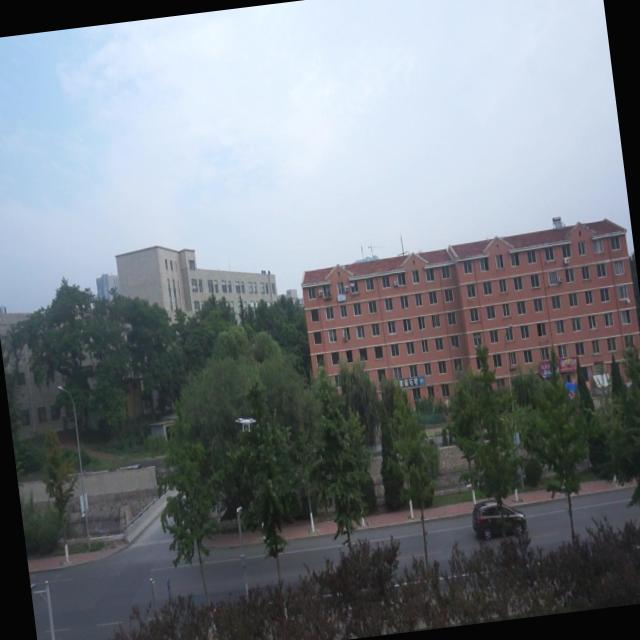drone: (230, 411, 262, 438)
